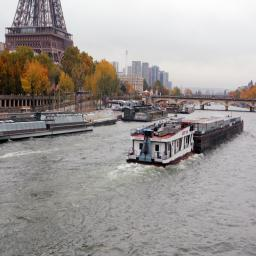tugboat: (126, 115, 197, 172)
